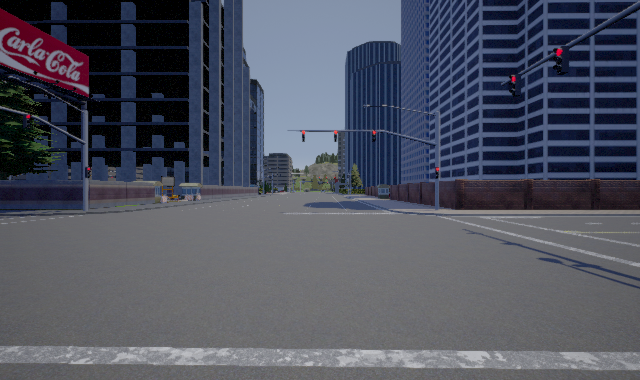traffic_light: (553, 46, 569, 75), (509, 74, 521, 97), (23, 114, 32, 129), (85, 167, 91, 178), (435, 167, 439, 179), (372, 130, 376, 142), (334, 130, 337, 142), (302, 130, 305, 142)
